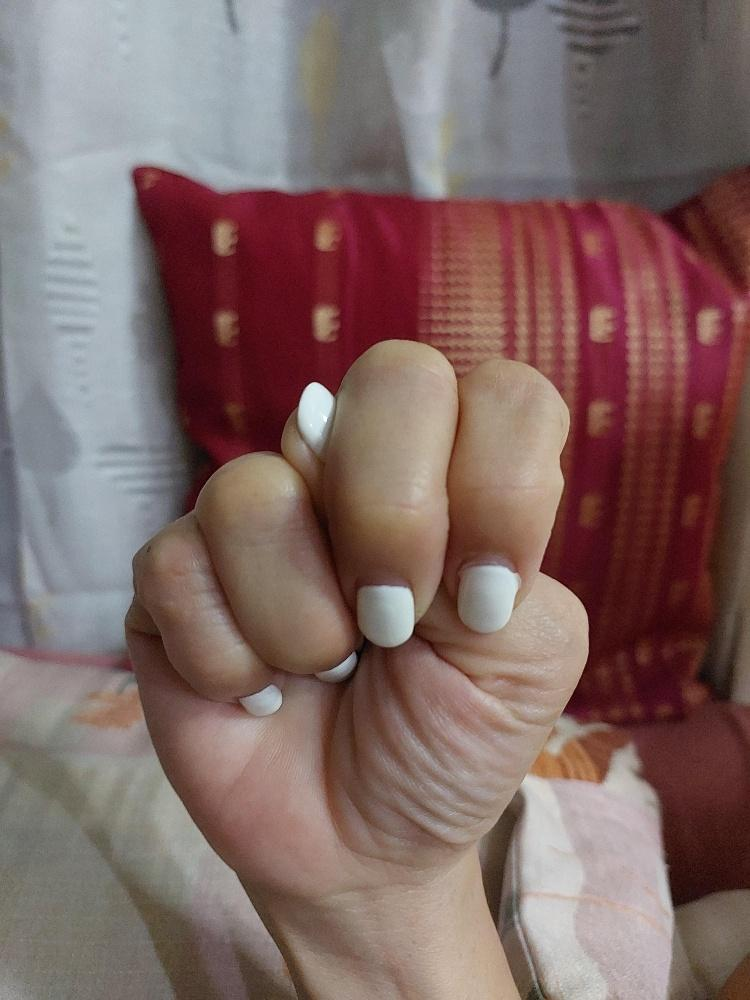n: (120, 331, 590, 891)
